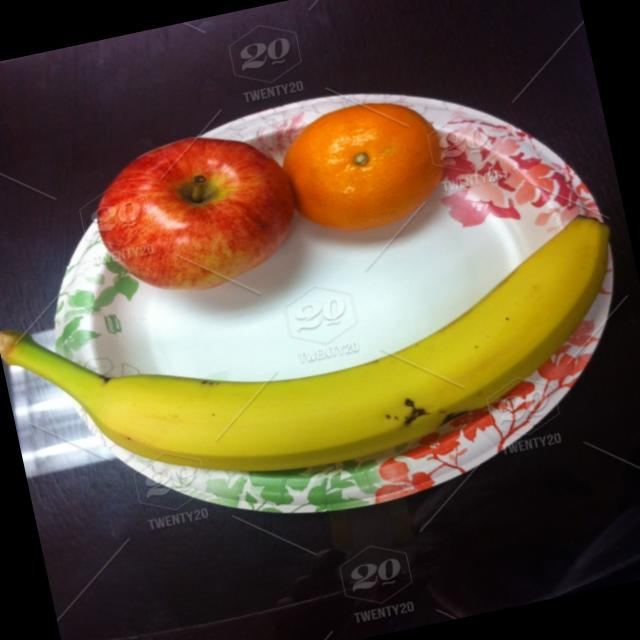apple: (86, 115, 310, 318)
banana: (68, 212, 640, 510)
orange: (269, 85, 461, 262)
